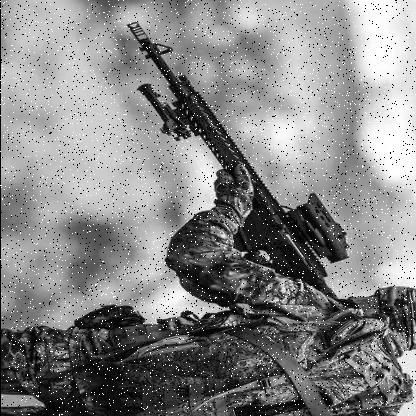rifle: (109, 17, 376, 304)
